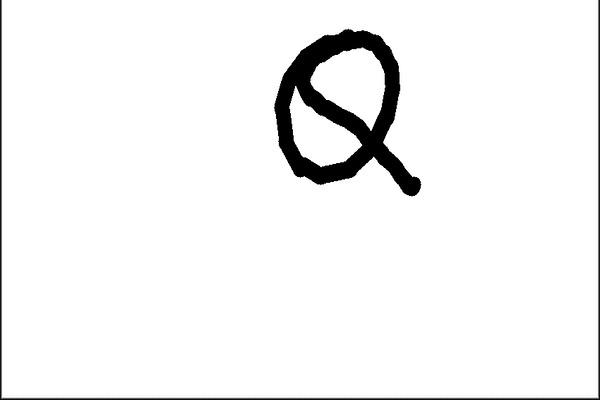Q: (264, 20, 420, 198)
